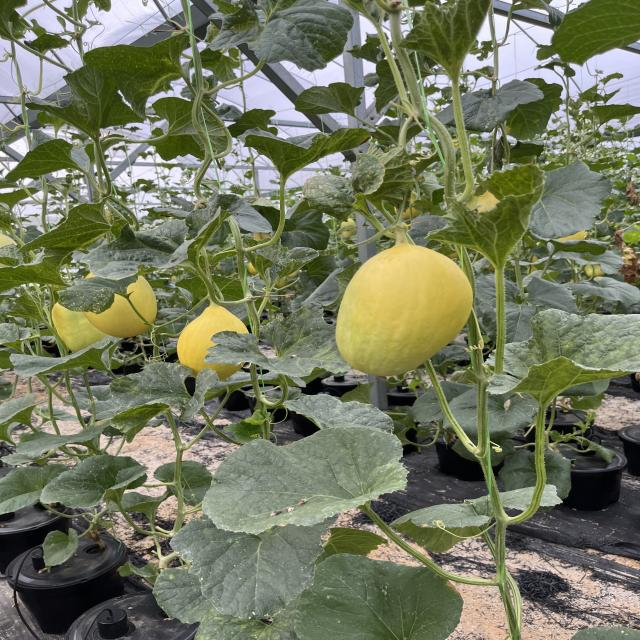CMV: (415, 159, 550, 267), (236, 125, 372, 181)
SLCV: (486, 309, 640, 411), (90, 362, 232, 436), (297, 153, 390, 219), (245, 240, 323, 280)
downy mildew: (200, 427, 406, 538), (168, 516, 330, 622), (205, 306, 351, 382), (88, 33, 188, 110), (17, 193, 117, 255), (0, 133, 101, 186), (47, 275, 142, 313), (0, 258, 63, 299)
healthy: (246, 0, 360, 78), (403, 0, 492, 74), (40, 455, 148, 509), (551, 0, 640, 59), (287, 77, 369, 120), (153, 568, 218, 622)
powdery mildew: (289, 553, 465, 640)
